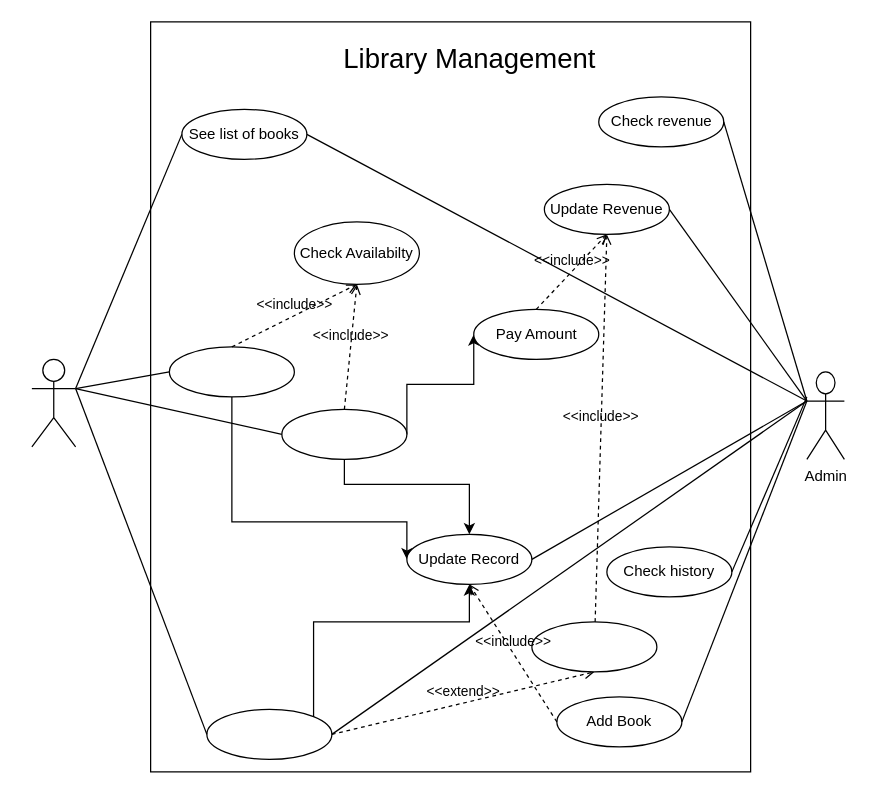
This 869x794 diagram has some shape labels left out. The box of each missing label's shape, as (x1, y1, x2, y2) in pixels:
Borrow Book: (168, 346, 294, 397)
Buy Book: (281, 408, 407, 459)
Customer: (31, 358, 76, 447)
Pay Fine: (531, 621, 657, 672)
Return Book: (206, 708, 332, 759)
